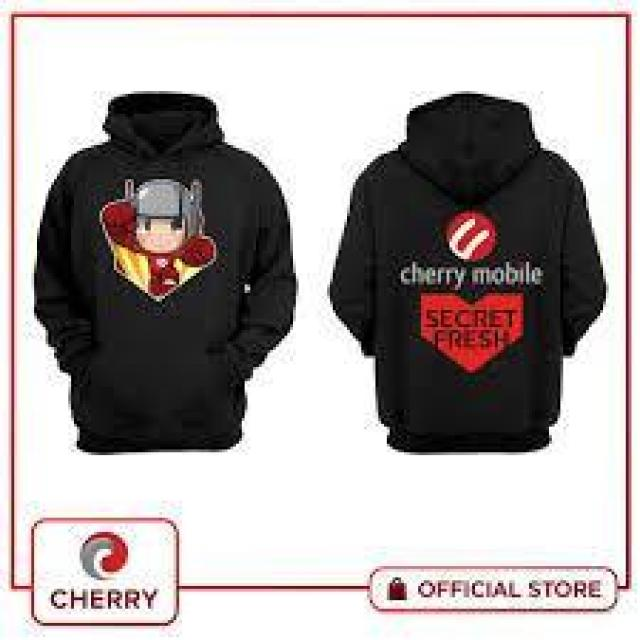sweater: (323, 88, 613, 452), (28, 90, 302, 457)
